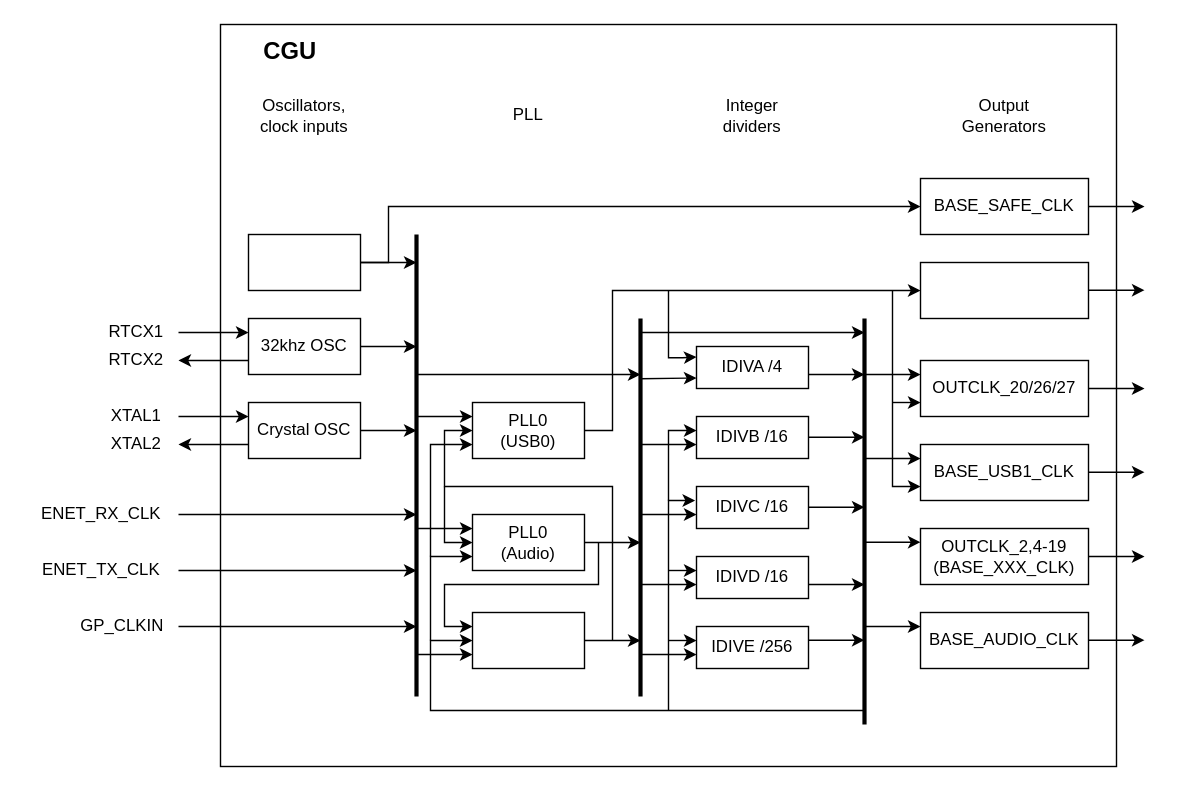
Image size: 1180x791. Some labels were removed from this diagram. The centre of each missing label's shape, as x and y in pixels:
"12 Mhz IRC" goes at point (303, 261).
"BASE_USB0_CLK" goes at point (1003, 289).
"PLL1" goes at point (527, 639).
